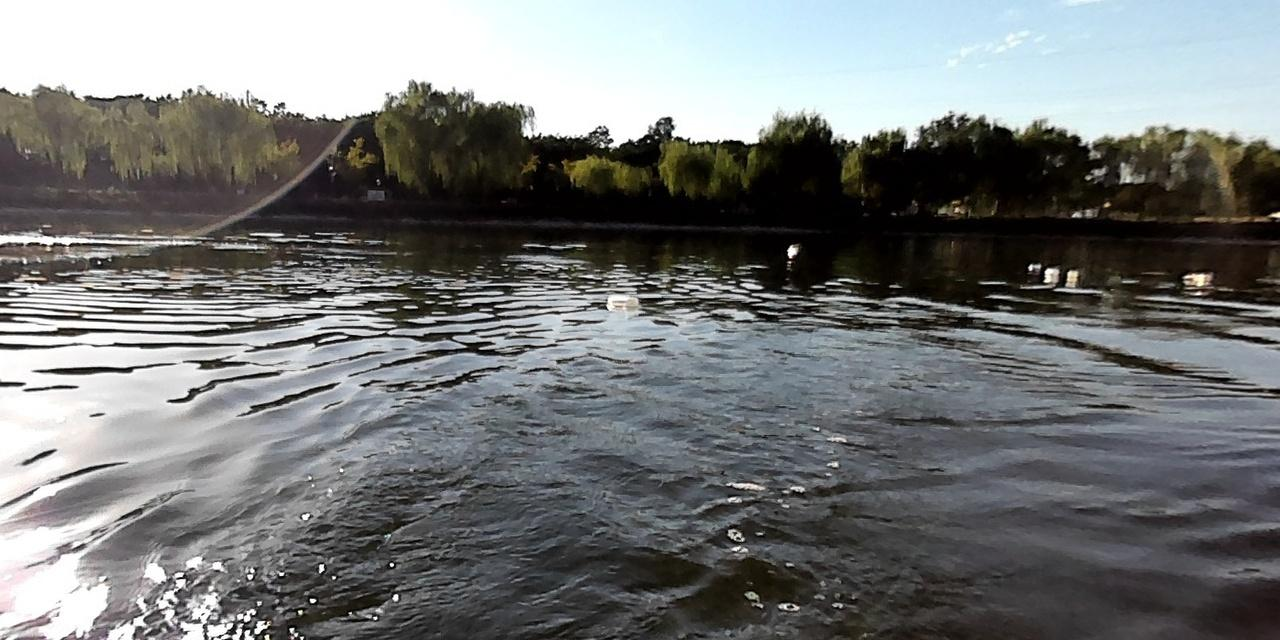bottle: (605, 290, 641, 309), (1175, 270, 1213, 285)
